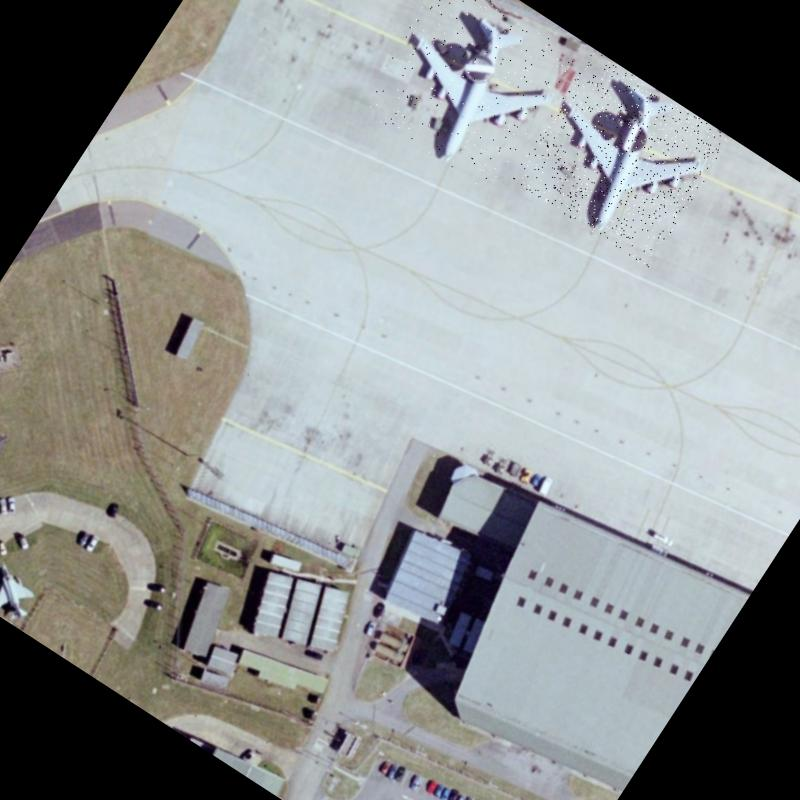A7: (510, 50, 731, 268), (355, 0, 576, 193)
